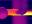Hotspot: (24, 10, 31, 16)
